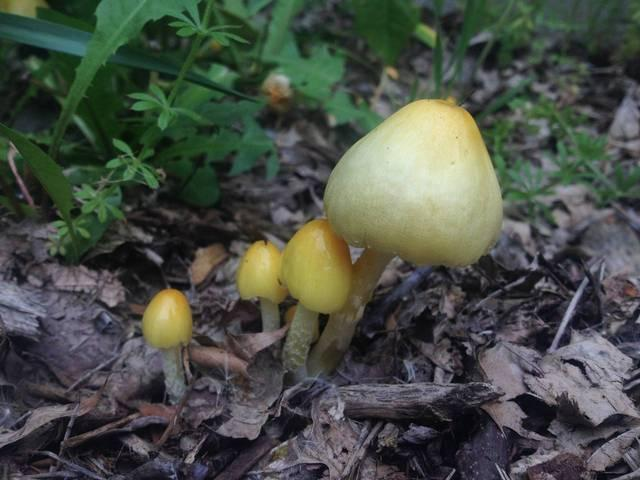Edible Mushroom: (305, 96, 504, 379), (278, 217, 353, 381), (141, 287, 193, 404), (235, 238, 288, 332)
